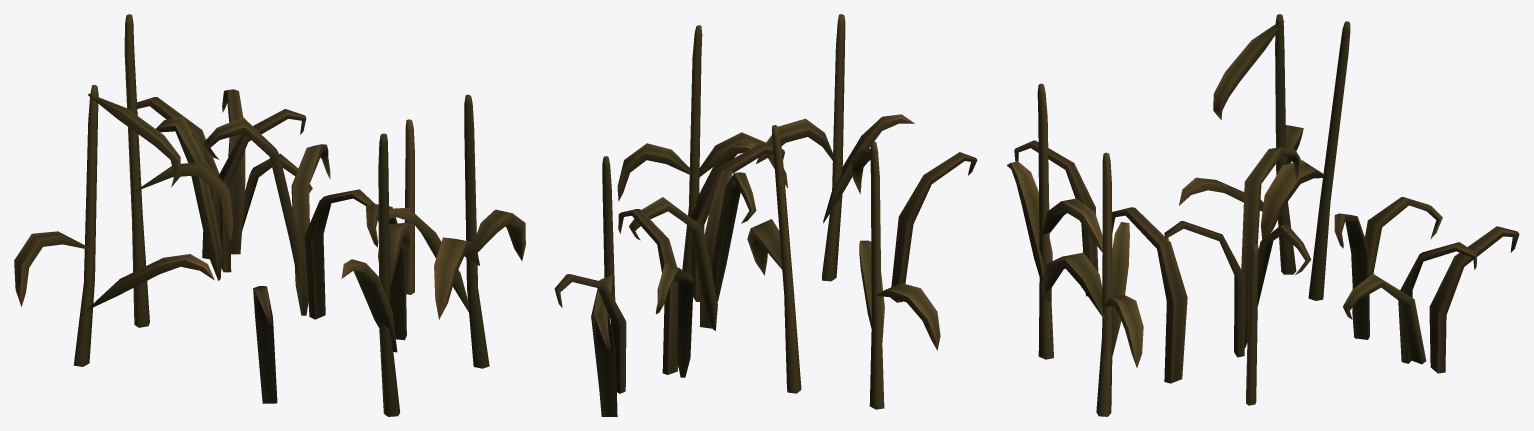
The model's file is SM_Plant_Rice_Dead.fbx.
3 views of the same model, side by side, from view 1: azimuth 30°, elevation 25°; view 2: azimuth 150°, elevation 25°; view 3: azimuth 270°, elevation 25° (orthographic). The views are drawn at different scales.
Visible parts, largest first — view 1: SM_Plant_Rice_Dead; view 2: SM_Plant_Rice_Dead; view 3: SM_Plant_Rice_Dead.
Part boxes in pixels (left/top/right/bottom): SM_Plant_Rice_Dead: left=14, top=14, right=525, bottom=416; SM_Plant_Rice_Dead: left=554, top=14, right=977, bottom=416; SM_Plant_Rice_Dead: left=1007, top=14, right=1519, bottom=416.
Bounding box in the file's own units: 64.95 × 45.22 × 72.13.
